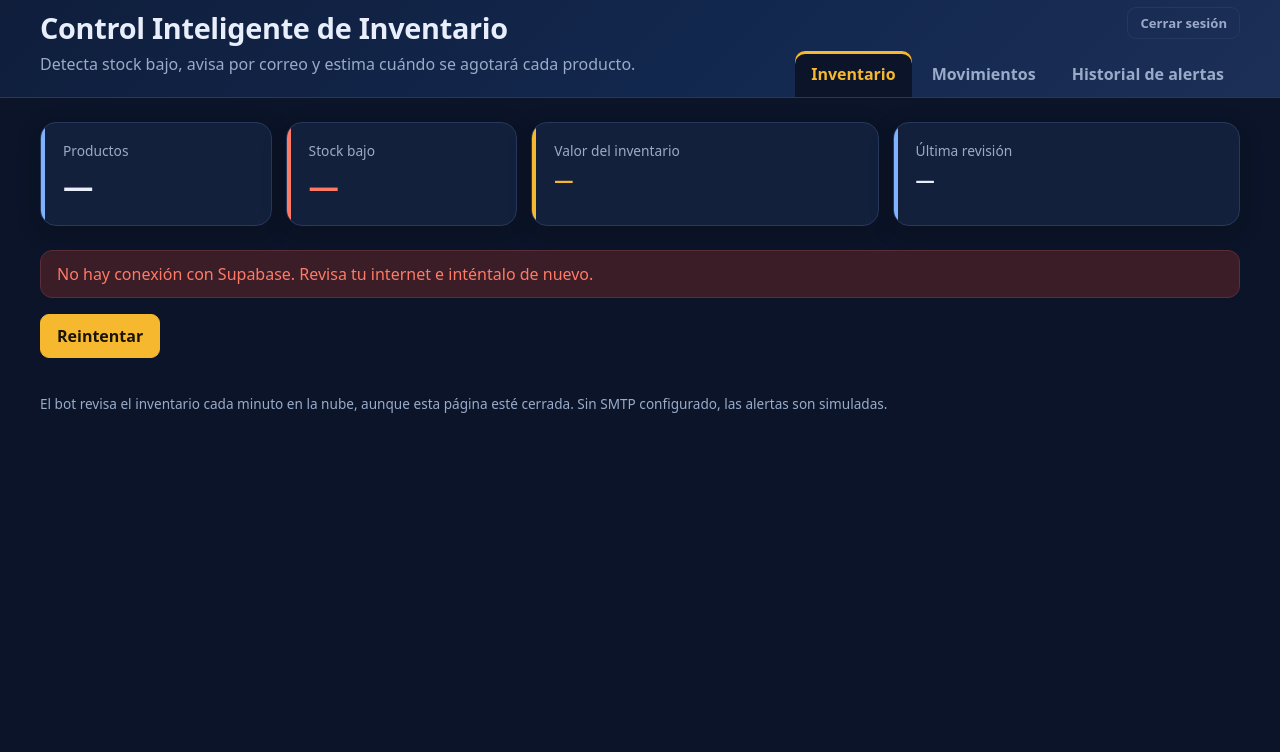
Scenario: Inventario › si la carga falla muestra el motivo y permite reintentar
Expected: the text "No hay conexión con Supabase. Revisa tu internet e inténtalo de nuevo." is shown, [40,250,1240,298]
Step 1. Click the button "Reintentar" → click(100, 336), box [40,314,160,358]
(page scrolled)
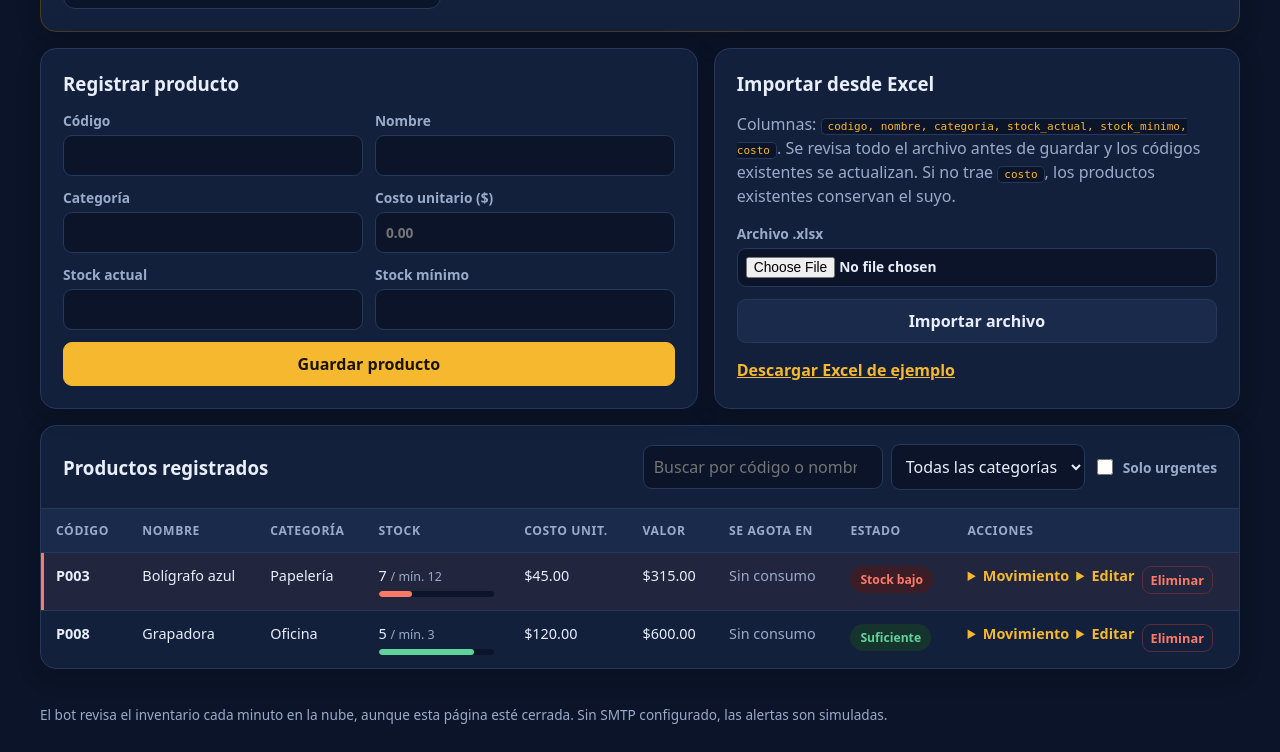
Expected: the text "P003" is shown, [56,566,90,585]
